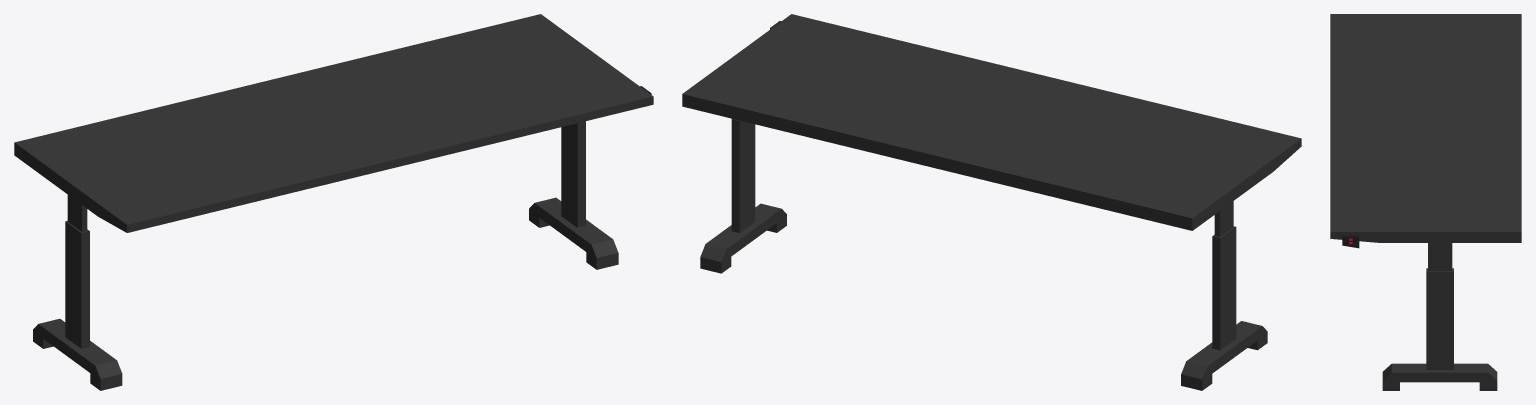
File: desk_6.glb
3 renders of one model, left to right at view 1: azimuth 30°, elevation 25°; view 2: azimuth 150°, elevation 25°; view 3: azimuth 270°, elevation 25°, orthographic. The views are drawn at different scales.
Visible parts, largest first — view 1: Desk Mechanical Top, Desk Mechanical Base; view 2: Desk Mechanical Top, Desk Mechanical Base; view 3: Desk Mechanical Top, Desk Mechanical Base.
Boxes of the visible parts, bbox=[...] form: Desk Mechanical Top: bbox=[14, 14, 653, 232]; Desk Mechanical Base: bbox=[33, 121, 618, 390]; Desk Mechanical Top: bbox=[682, 14, 1301, 236]; Desk Mechanical Base: bbox=[700, 118, 1267, 390]; Desk Mechanical Top: bbox=[1330, 14, 1521, 270]; Desk Mechanical Base: bbox=[1382, 268, 1497, 390].
Size of the model in its own units: 2.38 by 0.8099 by 0.8726.
2 materials, 2 textured.
